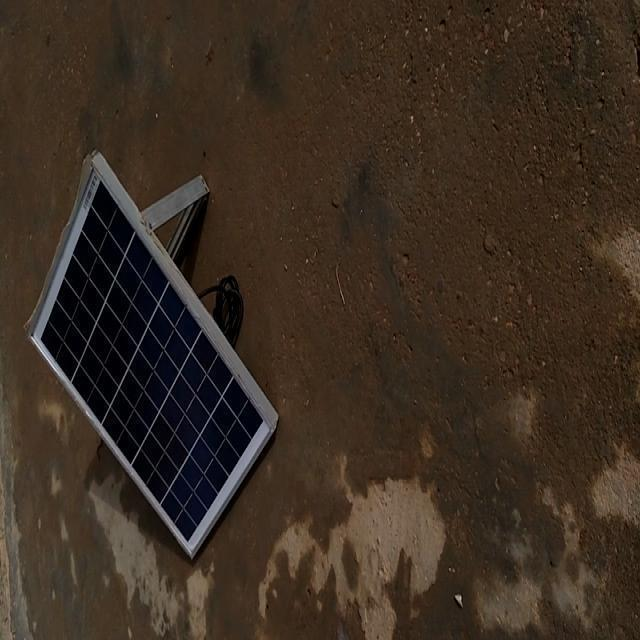Normal Solar Panel: (29, 151, 277, 557)
